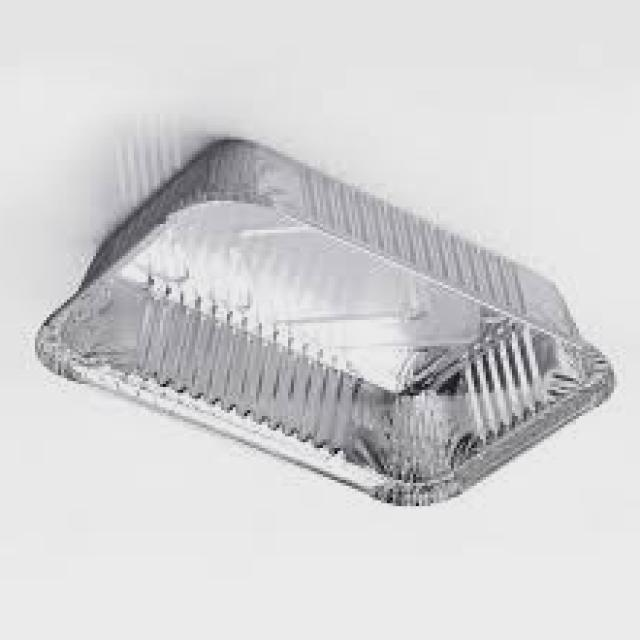kim_loai: (35, 143, 620, 509)
